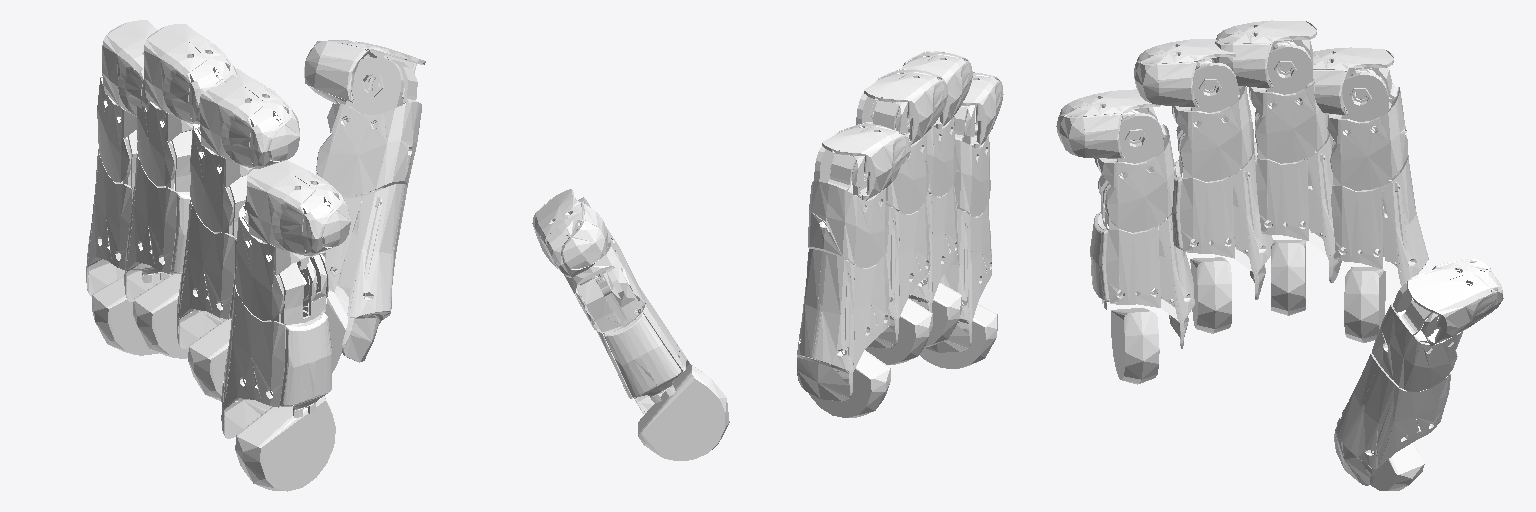
--- Facts derived from the render (not from the file) ---
3 views of the same robot in one strip: view 1: azimuth 30°, elevation 25°; view 2: azimuth 150°, elevation 25°; view 3: azimuth 270°, elevation 25° (orthographic).
Robot: hithand — 23 links, 22 joints (20 revolute, 2 fixed); root link world; default pose: every joint at zero.
Visible links, largest first — view 1: Right_Little_Phaprox, Right_Thumb_Phamed, Right_Thumb_Phaprox, Right_Little_Phadist, Right_Ring_Phadist, Right_Middle_Phaprox, Right_Little_Basecover, Right_Ring_Phaprox, Right_Middle_Phadist, Right_Index_Phaprox, Right_Little_Phamed, Right_Thumb_Phadist (+8 smaller); view 2: Right_Index_Phaprox, Right_Thumb_Phaprox, Right_Index_Phamed, Right_Thumb_Basecover, Right_Thumb_Phadist, Right_Middle_Phaprox, Right_Little_Phaprox, Right_Middle_Phamed, Right_Index_Phadist, Right_Middle_Phadist, Right_Little_Phamed, Right_Ring_Phaprox (+8 smaller); view 3: Right_Little_Phaprox, Right_Ring_Phaprox, Right_Thumb_Phaprox, Right_Index_Phaprox, Right_Index_Phamed, Right_Ring_Phamed, Right_Little_Phamed, Right_Middle_Phaprox, Right_Middle_Phamed, Right_Thumb_Phamed, Right_Thumb_Phadist, Right_Little_Phadist (+8 smaller).
Boxes of the visible links, x1,y1,x2,y2 form: Right_Little_Phaprox: (221,255,331,438); Right_Thumb_Phamed: (316,57,421,196); Right_Thumb_Phaprox: (316,172,407,362); Right_Little_Phadist: (247,160,350,255); Right_Ring_Phadist: (199,68,299,168); Right_Middle_Phaprox: (124,130,191,301); Right_Little_Basecover: (235,396,335,491); Right_Ring_Phaprox: (177,175,246,348); Right_Middle_Phadist: (144,24,236,124); Right_Index_Phaprox: (86,130,174,296); Right_Little_Phamed: (235,196,328,320); Right_Thumb_Phadist: (304,40,425,104); Right_Index_Phaprox: (797,249,890,401); Right_Thumb_Phaprox: (577,266,689,414); Right_Index_Phamed: (808,146,888,267); Right_Thumb_Basecover: (638,364,729,460); Right_Thumb_Phadist: (532,189,607,277); Right_Middle_Phaprox: (853,200,930,348); Right_Little_Phaprox: (926,203,991,352); Right_Middle_Phamed: (853,93,928,213); Right_Index_Phadist: (822,122,910,200); Right_Middle_Phadist: (864,68,947,146); Right_Little_Phamed: (954,105,990,216); Right_Ring_Phaprox: (898,183,958,312); Right_Little_Phaprox: (1090,171,1194,348); Right_Ring_Phaprox: (1171,115,1273,299); Right_Thumb_Phaprox: (1334,353,1450,485); Right_Index_Phaprox: (1331,126,1428,285); Right_Index_Phamed: (1327,67,1407,190); Right_Ring_Phamed: (1172,58,1253,181); Right_Little_Phamed: (1094,107,1175,232); Right_Middle_Phaprox: (1254,101,1341,282); Right_Middle_Phamed: (1249,40,1328,163); Right_Thumb_Phamed: (1372,272,1462,391); Right_Thumb_Phadist: (1397,259,1503,345); Right_Little_Phadist: (1056,89,1160,158).
Bounding box of the posed robot: 0.1296 × 0.1553 × 0.1457 m (x, y, z).
Meshes: 5 distinct files referenced, 20 mesh visuals loaded (4 Collada DAE); not drawn: 1 (reference not matched to a file when rendering).

The robot description file, URDF, robot "hithand":
<?xml version="1.0" encoding="utf-8"?>
<robot name="hithand">
  <material name="white">
    <color rgba="1.0 1.0 1.0 1.0"/>
  </material>

  <link name="world"/>
  <joint name="fixed" type="fixed">
    <parent link="world"/>
    <child link="base_link_hithand"/>
    <origin rpy="0 0 0" xyz="0 0 0"/>
  </joint>
  <link name="base_link_hithand">
    <inertial>
      <origin rpy="0 0 0" xyz="0.0 0.0 0.0"/>
      <mass value="1.1485"/>
      <inertia ixx="2.2458e-3" ixy="-2.7421e-4" ixz="1.6e-5" iyy="2.2203e-3" iyz="-6.37e-5" izz="1.9003e-3"/>
    </inertial>
    <visual>
      <origin rpy="-1.57 0 0" xyz="0 0 0"/>
      <geometry>
        <mesh filename="./meshes/visual/palm/hit-hand-2-palm-right.obj"/>
      </geometry>
      <material name="white"/>
    </visual>
    <collision>
      <origin rpy="-1.57 0 0" xyz="0 0 0"/>
      <geometry>
        <mesh filename="./meshes/collision/palm/hit-hand-2-palm-right.stl"/>
      </geometry>
      <disable>true</disable>
    </collision>
  </link>
  <joint name="hithand_palm_joint" type="fixed">
    <parent link="base_link_hithand"/>
    <child link="palm_link_hithand"/>
    <origin rpy="-0.15 -1.3 0" xyz="0.02 0 0.06"/>
  </joint>
  <link name="palm_link_hithand"/>
  <joint name="Right_Thumb_0" type="revolute">
    <origin rpy="0.225810 -1.083656 0.411355" xyz="0.06217593 0.044372912 0.078734808"/>
    <parent link="base_link_hithand"/>
    <child link="Right_Thumb_Basecover"/>
    <axis xyz="0 0 1"/>
    <limit effort="15" lower="-0.261799" upper="0.261799" velocity="3.14"/>
    <dynamics damping="0.5" friction="0"/>
  </joint>
  <link name="Right_Thumb_Basecover">
    <inertial>
      <origin rpy="0 0 0" xyz="0.02749 0 0"/>
      <mass value="0.0176"/>
      <inertia ixx="1.3450e-6" ixy="0.0" ixz="-1.8183e-7" iyy="1.9874e-6" iyz="0.0" izz="1.0419e-6"/>
    </inertial>
    <visual>
      <origin rpy="0 0 0" xyz="0 0 0"/>
      <geometry>
        <mesh filename="./meshes/visual/finger/hit-hand-2-finger-basecover.dae"/>
      </geometry>
      <material name="white"/>
    </visual>
    <collision>
      <origin rpy="0 0 0" xyz="0 0 0"/>
      <geometry name="hithand_Thumb_base_cover">
        <cylinder length="0.001" radius="0.001"/>
      </geometry>
    </collision>
  </link>
  <!-- +++++ Finger joint 1, Link: Phalanx proximalis ++++++ -->
  <joint name="Right_Thumb_1" type="revolute">
    <origin rpy="1.5708 0 0" xyz="0 0 0 "/>
    <parent link="Right_Thumb_Basecover"/>
    <child link="Right_Thumb_Phaprox"/>
    <axis xyz="0 0 1"/>
    <limit effort="1.15" lower="0.0" upper="1.48353" velocity="3.14"/>
    <!-- Effort limit based on max fingertip force of 10N. Finger tip is approx 11.5cm away from this joint.-->
    <dynamics damping="0.5" friction="0"/>
  </joint>
  <link name="Right_Thumb_Phaprox">
    <inertial>
      <origin rpy="0 0 0" xyz="0.03076 0.00297 0"/>
      <mass value="0.0232"/>
      <inertia ixx="2.5326e-6" ixy="-9.2551e-7" ixz="-4.0954e-8" iyy="6.9625e-6" iyz="-9.38e-9" izz="7.9108e-6"/>
    </inertial>
    <visual>
      <origin rpy="0 0 0" xyz="0 0 0"/>
      <geometry>
        <mesh filename="./meshes/visual/finger/hit-hand-2-finger-phaprox-rot.dae"/>
      </geometry>
      <material name="white"/>
    </visual>
    <collision>
      <origin rpy="0 0 0" xyz="0 0 0"/>
      <geometry>
        <mesh filename="./meshes/collision/finger/hit-hand-2-finger-phaprox.stl"/>
      </geometry>
    </collision>
  </link>
  <!-- +++++ Finger joint 2 Phalanx medialis ++++++ -->
  <joint name="Right_Thumb_2" type="revolute">
    <origin rpy="0 0 0" xyz="0.055 0 0"/>
    <parent link="Right_Thumb_Phaprox"/>
    <child link="Right_Thumb_Phamed"/>
    <axis xyz="0 0 1"/>
    <limit effort="0.6" lower="0.0" upper="1.13446" velocity="3.14"/>
    <!-- Effort limit based on max fingertip force of 10N. Finger tip is approx 6cm away from this joint.-->
    <dynamics damping="0.5" friction="0"/>
  </joint>
  <link name="Right_Thumb_Phamed">
    <inertial>
      <origin rpy="0 0 0" xyz="0.0097 -0.00036 0"/>
      <mass value="0.0158"/>
      <inertia ixx="1.1852e-6" ixy="-2.8845e-8" ixz="-6.1323e-9" iyy="2.4460e-6" iyz="2.4541e-9" izz="2.6537e-6"/>
    </inertial>
    <visual>
      <origin rpy="0 0 0" xyz="0 0 0"/>
      <geometry>
        <mesh filename="./meshes/visual/finger/hit-hand-2-finger-phamed-rot.dae"/>
      </geometry>
      <material name="white"/>
    </visual>
    <collision>
      <origin rpy="0 0 0" xyz="0 0 0"/>
      <geometry>
        <mesh filename="./meshes/collision/finger/hit-hand-2-finger-phamed.stl"/>
      </geometry>
    </collision>
  </link>
  <!-- +++++ Finger joint 3 Phalanx distalis ++++++ -->
  <joint name="Right_Thumb_3" type="revolute">
    <origin rpy="0 0 -1.570796" xyz="0.025 0 0"/>
    <parent link="Right_Thumb_Phamed"/>
    <child link="Right_Thumb_Phadist"/>
    <axis xyz="0 0 1"/>
    <limit effort="0.35" lower="0.0" upper="1.13446" velocity="3.14"/>
    <!-- Effort limit based on max fingertip force of 10N. Finger tip is approx 3.5cm away from this joint.-->
    <dynamics damping="0.5" friction="0"/>
  </joint>
  <link name="Right_Thumb_Phadist">
    <inertial>
      <origin rpy="0 0 0" xyz="0.00072 0.00717 0.0"/>
      <mass value="0.0137"/>
      <inertia ixx="1.5519e-6" ixy="-2.037e-9" ixz="0.0" iyy="8.2972e-7" iyz="3.77e-9" izz="1.5788e-6"/>
    </inertial>
    <visual>
      <origin rpy="0 0 0" xyz="0 0 0"/>
      <geometry>
        <mesh filename="./meshes/visual/finger/hit-hand-2-finger-phadist-rot.dae"/>
      </geometry>
      <material name="white"/>
    </visual>
    <collision>
      <origin rpy="0 0 0" xyz="0 0 0"/>
      <geometry>
        <mesh filename="./meshes/collision/finger/hit-hand-2-finger-phadist.stl"/>
      </geometry>
    </collision>
  </link>
  <!-- +++++ Finger base joint 0 ++++++ -->
  <joint name="Right_Index_0" type="revolute">
    <!-- joint origin in parent link frame -->
    <origin rpy="3.054326 -1.570796 0.000000" xyz="-0.002529881 0.03680013 0.107783545"/>
    <parent link="base_link_hithand"/>
    <child link="Right_Index_Basecover"/>
    <axis xyz="0 0 1"/>
    <limit effort="15" lower="-0.261799" upper="0.261799" velocity="3.14"/>
    <dynamics damping="0.5" friction="0"/>
  </joint>
  <link name="Right_Index_Basecover">
    <inertial>
      <origin rpy="0 0 0" xyz="0.02749 0 0"/>
      <mass value="0.0176"/>
      <inertia ixx="1.3450e-6" ixy="0.0" ixz="-1.8183e-7" iyy="1.9874e-6" iyz="0.0" izz="1.0419e-6"/>
    </inertial>
    <visual>
      <origin rpy="0 0 0" xyz="0 0 0"/>
      <geometry>
        <mesh filename="./meshes/visual/finger/hit-hand-2-finger-basecover.dae"/>
      </geometry>
      <material name="white"/>
    </visual>
    <collision>
      <origin rpy="0 0 0" xyz="0 0 0"/>
      <geometry name="hithand_Index_base_cover">
        <cylinder length="0.001" radius="0.001"/>
      </geometry>
    </collision>
  </link>
  <!-- +++++ Finger joint 1, Link: Phalanx proximalis ++++++ -->
  <joint name="Right_Index_1" type="revolute">
    <origin rpy="1.5708 0 0" xyz="0 0 0 "/>
    <parent link="Right_Index_Basecover"/>
    <child link="Right_Index_Phaprox"/>
    <axis xyz="0 0 1"/>
    <limit effort="1.15" lower="0.0" upper="1.48353" velocity="3.14"/>
    <!-- Effort limit based on max fingertip force of 10N. Finger tip is approx 11.5cm away from this joint.-->
    <dynamics damping="0.5" friction="0"/>
  </joint>
  <link name="Right_Index_Phaprox">
    <inertial>
      <origin rpy="0 0 0" xyz="0.03076 0.00297 0"/>
      <mass value="0.0232"/>
      <inertia ixx="2.5326e-6" ixy="-9.2551e-7" ixz="-4.0954e-8" iyy="6.9625e-6" iyz="-9.38e-9" izz="7.9108e-6"/>
    </inertial>
    <visual>
      <origin rpy="0 0 0" xyz="0 0 0"/>
      <geometry>
        <mesh filename="./meshes/visual/finger/hit-hand-2-finger-phaprox-rot.dae"/>
      </geometry>
      <material name="white"/>
    </visual>
    <collision>
      <origin rpy="0 0 0" xyz="0 0 0"/>
      <geometry>
        <mesh filename="./meshes/collision/finger/hit-hand-2-finger-phaprox.stl"/>
      </geometry>
    </collision>
  </link>
  <!-- +++++ Finger joint 2 Phalanx medialis ++++++ -->
  <joint name="Right_Index_2" type="revolute">
    <origin rpy="0 0 0" xyz="0.055 0 0"/>
    <parent link="Right_Index_Phaprox"/>
    <child link="Right_Index_Phamed"/>
    <axis xyz="0 0 1"/>
    <limit effort="0.6" lower="0.0" upper="1.13446" velocity="3.14"/>
    <!-- Effort limit based on max fingertip force of 10N. Finger tip is approx 6cm away from this joint.-->
    <dynamics damping="0.5" friction="0"/>
  </joint>
  <link name="Right_Index_Phamed">
    <inertial>
      <origin rpy="0 0 0" xyz="0.0097 -0.00036 0"/>
      <mass value="0.0158"/>
      <inertia ixx="1.1852e-6" ixy="-2.8845e-8" ixz="-6.1323e-9" iyy="2.4460e-6" iyz="2.4541e-9" izz="2.6537e-6"/>
    </inertial>
    <visual>
      <origin rpy="0 0 0" xyz="0 0 0"/>
      <geometry>
        <mesh filename="./meshes/visual/finger/hit-hand-2-finger-phamed-rot.dae"/>
      </geometry>
      <material name="white"/>
    </visual>
    <collision>
      <origin rpy="0 0 0" xyz="0 0 0"/>
      <geometry>
        <mesh filename="./meshes/collision/finger/hit-hand-2-finger-phamed.stl"/>
      </geometry>
    </collision>
  </link>
  <!-- +++++ Finger joint 3 Phalanx distalis ++++++ -->
  <joint name="Right_Index_3" type="revolute">
    <origin rpy="0 0 -1.570796" xyz="0.025 0 0"/>
    <parent link="Right_Index_Phamed"/>
    <child link="Right_Index_Phadist"/>
    <axis xyz="0 0 1"/>
    <limit effort="0.35" lower="0.0" upper="1.13446" velocity="3.14"/>
    <!-- Effort limit based on max fingertip force of 10N. Finger tip is approx 3.5cm away from this joint.-->
    <dynamics damping="0.5" friction="0"/>
  </joint>
  <link name="Right_Index_Phadist">
    <inertial>
      <origin rpy="0 0 0" xyz="0.00072 0.00717 0.0"/>
      <mass value="0.0137"/>
      <inertia ixx="1.5519e-6" ixy="-2.037e-9" ixz="0.0" iyy="8.2972e-7" iyz="3.77e-9" izz="1.5788e-6"/>
    </inertial>
    <visual>
      <origin rpy="0 0 0" xyz="0 0 0"/>
      <geometry>
        <mesh filename="./meshes/visual/finger/hit-hand-2-finger-phadist-rot.dae"/>
      </geometry>
      <material name="white"/>
    </visual>
    <collision>
      <origin rpy="0 0 0" xyz="0 0 0"/>
      <geometry>
        <mesh filename="./meshes/collision/finger/hit-hand-2-finger-phadist.stl"/>
      </geometry>
    </collision>
  </link>
  <!-- +++++ Finger base joint 0 ++++++ -->
  <joint name="Right_Middle_0" type="revolute">
    <!-- joint origin in parent link frame -->
    <origin rpy="-3.141593 -1.570796 0.000000" xyz="-0.0037 0.01  0.117783545"/>
    <parent link="base_link_hithand"/>
    <child link="Right_Middle_Basecover"/>
    <axis xyz="0 0 1"/>
    <limit effort="15" lower="-0.261799" upper="0.261799" velocity="3.14"/>
    <dynamics damping="0.5" friction="0"/>
  </joint>
  <link name="Right_Middle_Basecover">
    <inertial>
      <origin rpy="0 0 0" xyz="0.02749 0 0"/>
      <mass value="0.0176"/>
      <inertia ixx="1.3450e-6" ixy="0.0" ixz="-1.8183e-7" iyy="1.9874e-6" iyz="0.0" izz="1.0419e-6"/>
    </inertial>
    <visual>
      <origin rpy="0 0 0" xyz="0 0 0"/>
      <geometry>
        <mesh filename="./meshes/visual/finger/hit-hand-2-finger-basecover.dae"/>
      </geometry>
      <material name="white"/>
    </visual>
    <collision>
      <origin rpy="0 0 0" xyz="0 0 0"/>
      <geometry name="hithand_Middle_base_cover">
        <cylinder length="0.001" radius="0.001"/>
      </geometry>
    </collision>
  </link>
  <!-- +++++ Finger joint 1, Link: Phalanx proximalis ++++++ -->
  <joint name="Right_Middle_1" type="revolute">
    <origin rpy="1.5708 0 0" xyz="0 0 0 "/>
    <parent link="Right_Middle_Basecover"/>
    <child link="Right_Middle_Phaprox"/>
    <axis xyz="0 0 1"/>
    <limit effort="1.15" lower="0.0" upper="1.48353" velocity="3.14"/>
    <!-- Effort limit based on max fingertip force of 10N. Finger tip is approx 11.5cm away from this joint.-->
    <dynamics damping="0.5" friction="0"/>
  </joint>
  <link name="Right_Middle_Phaprox">
    <inertial>
      <origin rpy="0 0 0" xyz="0.03076 0.00297 0"/>
      <mass value="0.0232"/>
      <inertia ixx="2.5326e-6" ixy="-9.2551e-7" ixz="-4.0954e-8" iyy="6.9625e-6" iyz="-9.38e-9" izz="7.9108e-6"/>
    </inertial>
    <visual>
      <origin rpy="0 0 0" xyz="0 0 0"/>
      <geometry>
        <mesh filename="./meshes/visual/finger/hit-hand-2-finger-phaprox-rot.dae"/>
      </geometry>
      <material name="white"/>
    </visual>
    <collision>
      <origin rpy="0 0 0" xyz="0 0 0"/>
      <geometry>
        <mesh filename="./meshes/collision/finger/hit-hand-2-finger-phaprox.stl"/>
      </geometry>
    </collision>
  </link>
  <!-- +++++ Finger joint 2 Phalanx medialis ++++++ -->
  <joint name="Right_Middle_2" type="revolute">
    <origin rpy="0 0 0" xyz="0.055 0 0"/>
    <parent link="Right_Middle_Phaprox"/>
    <child link="Right_Middle_Phamed"/>
    <axis xyz="0 0 1"/>
    <limit effort="0.6" lower="0.0" upper="1.13446" velocity="3.14"/>
    <!-- Effort limit based on max fingertip force of 10N. Finger tip is approx 6cm away from this joint.-->
    <dynamics damping="0.5" friction="0"/>
  </joint>
  <link name="Right_Middle_Phamed">
    <inertial>
      <origin rpy="0 0 0" xyz="0.0097 -0.00036 0"/>
      <mass value="0.0158"/>
      <inertia ixx="1.1852e-6" ixy="-2.8845e-8" ixz="-6.1323e-9" iyy="2.4460e-6" iyz="2.4541e-9" izz="2.6537e-6"/>
    </inertial>
    <visual>
      <origin rpy="0 0 0" xyz="0 0 0"/>
      <geometry>
        <mesh filename="./meshes/visual/finger/hit-hand-2-finger-phamed-rot.dae"/>
      </geometry>
      <material name="white"/>
    </visual>
    <collision>
      <origin rpy="0 0 0" xyz="0 0 0"/>
      <geometry>
        <mesh filename="./meshes/collision/finger/hit-hand-2-finger-phamed.stl"/>
      </geometry>
    </collision>
  </link>
  <!-- +++++ Finger joint 3 Phalanx distalis ++++++ -->
  <joint name="Right_Middle_3" type="revolute">
    <origin rpy="0 0 -1.570796" xyz="0.025 0 0"/>
    <parent link="Right_Middle_Phamed"/>
    <child link="Right_Middle_Phadist"/>
    <axis xyz="0 0 1"/>
    <limit effort="0.35" lower="0.0" upper="1.13446" velocity="3.14"/>
    <!-- Effort limit based on max fingertip force of 10N. Finger tip is approx 3.5cm away from this joint.-->
    <dynamics damping="0.5" friction="0"/>
  </joint>
  <link name="Right_Middle_Phadist">
    <inertial>
      <origin rpy="0 0 0" xyz="0.00072 0.00717 0.0"/>
      <mass value="0.0137"/>
      <inertia ixx="1.5519e-6" ixy="-2.037e-9" ixz="0.0" iyy="8.2972e-7" iyz="3.77e-9" izz="1.5788e-6"/>
    </inertial>
    <visual>
      <origin rpy="0 0 0" xyz="0 0 0"/>
      <geometry>
        <mesh filename="./meshes/visual/finger/hit-hand-2-finger-phadist-rot.dae"/>
      </geometry>
      <material name="white"/>
    </visual>
    <collision>
      <origin rpy="0 0 0" xyz="0 0 0"/>
      <geometry>
        <mesh filename="./meshes/collision/finger/hit-hand-2-finger-phadist.stl"/>
      </geometry>
    </collision>
  </link>
  <!-- +++++ Finger base joint 0 ++++++ -->
  <joint name="Right_Ring_0" type="revolute">
    <!-- joint origin in parent link frame -->
    <origin rpy="-3.054326 -1.570796 0.000000" xyz="0 -0.01680013 0.11258354"/>
    <parent link="base_link_hithand"/>
    <child link="Right_Ring_Basecover"/>
    <axis xyz="0 0 1"/>
    <limit effort="15" lower="-0.261799" upper="0.261799" velocity="3.14"/>
    <dynamics damping="0.5" friction="0"/>
  </joint>
  <link name="Right_Ring_Basecover">
    <inertial>
      <origin rpy="0 0 0" xyz="0.02749 0 0"/>
      <mass value="0.0176"/>
      <inertia ixx="1.3450e-6" ixy="0.0" ixz="-1.8183e-7" iyy="1.9874e-6" iyz="0.0" izz="1.0419e-6"/>
    </inertial>
    <visual>
      <origin rpy="0 0 0" xyz="0 0 0"/>
      <geometry>
        <mesh filename="./meshes/visual/finger/hit-hand-2-finger-basecover.dae"/>
      </geometry>
      <material name="white"/>
    </visual>
    <collision>
      <origin rpy="0 0 0" xyz="0 0 0"/>
      <geometry name="hithand_Ring_base_cover">
        <cylinder length="0.001" radius="0.001"/>
      </geometry>
    </collision>
  </link>
  <!-- +++++ Finger joint 1, Link: Phalanx proximalis ++++++ -->
  <joint name="Right_Ring_1" type="revolute">
    <origin rpy="1.5708 0 0" xyz="0 0 0 "/>
    <parent link="Right_Ring_Basecover"/>
    <child link="Right_Ring_Phaprox"/>
    <axis xyz="0 0 1"/>
    <limit effort="1.15" lower="0.0" upper="1.48353" velocity="3.14"/>
    <!-- Effort limit based on max fingertip force of 10N. Finger tip is approx 11.5cm away from this joint.-->
    <dynamics damping="0.5" friction="0"/>
  </joint>
  <link name="Right_Ring_Phaprox">
    <inertial>
      <origin rpy="0 0 0" xyz="0.03076 0.00297 0"/>
      <mass value="0.0232"/>
      <inertia ixx="2.5326e-6" ixy="-9.2551e-7" ixz="-4.0954e-8" iyy="6.9625e-6" iyz="-9.38e-9" izz="7.9108e-6"/>
    </inertial>
    <visual>
      <origin rpy="0 0 0" xyz="0 0 0"/>
      <geometry>
        <mesh filename="./meshes/visual/finger/hit-hand-2-finger-phaprox-rot.dae"/>
      </geometry>
      <material name="white"/>
    </visual>
    <collision>
      <origin rpy="0 0 0" xyz="0 0 0"/>
      <geometry>
        <mesh filename="./meshes/collision/finger/hit-hand-2-finger-phaprox.stl"/>
      </geometry>
    </collision>
  </link>
  <!-- +++++ Finger joint 2 Phalanx medialis ++++++ -->
  <joint name="Right_Ring_2" type="revolute">
    <origin rpy="0 0 0" xyz="0.055 0 0"/>
    <parent link="Right_Ring_Phaprox"/>
    <child link="Right_Ring_Phamed"/>
    <axis xyz="0 0 1"/>
    <limit effort="0.6" lower="0.0" upper="1.13446" velocity="3.14"/>
    <!-- Effort limit based on max fingertip force of 10N. Finger tip is approx 6cm away from this joint.-->
    <dynamics damping="0.5" friction="0"/>
  </joint>
  <link name="Right_Ring_Phamed">
    <inertial>
      <origin rpy="0 0 0" xyz="0.0097 -0.00036 0"/>
      <mass value="0.0158"/>
      <inertia ixx="1.1852e-6" ixy="-2.8845e-8" ixz="-6.1323e-9" iyy="2.4460e-6" iyz="2.4541e-9" izz="2.6537e-6"/>
    </inertial>
    <visual>
      <origin rpy="0 0 0" xyz="0 0 0"/>
      <geometry>
        <mesh filename="./meshes/visual/finger/hit-hand-2-finger-phamed-rot.dae"/>
      </geometry>
      <material name="white"/>
    </visual>
    <collision>
      <origin rpy="0 0 0" xyz="0 0 0"/>
      <geometry>
        <mesh filename="./meshes/collision/finger/hit-hand-2-finger-phamed.stl"/>
      </geometry>
    </collision>
  </link>
  <!-- +++++ Finger joint 3 Phalanx distalis ++++++ -->
  <joint name="Right_Ring_3" type="revolute">
    <origin rpy="0 0 -1.570796" xyz="0.025 0 0"/>
    <parent link="Right_Ring_Phamed"/>
    <child link="Right_Ring_Phadist"/>
    <axis xyz="0 0 1"/>
    <limit effort="0.35" lower="0.0" upper="1.13446" velocity="3.14"/>
    <!-- Effort limit based on max fingertip force of 10N. Finger tip is approx 3.5cm away from this joint.-->
    <dynamics damping="0.5" friction="0"/>
  </joint>
  <link name="Right_Ring_Phadist">
    <inertial>
      <origin rpy="0 0 0" xyz="0.00072 0.00717 0.0"/>
      <mass value="0.0137"/>
      <inertia ixx="1.5519e-6" ixy="-2.037e-9" ixz="0.0" iyy="8.2972e-7" iyz="3.77e-9" izz="1.5788e-6"/>
    </inertial>
    <visual>
      <origin rpy="0 0 0" xyz="0 0 0"/>
      <geometry>
        <mesh filename="./meshes/visual/finger/hit-hand-2-finger-phadist-rot.dae"/>
      </geometry>
      <material name="white"/>
    </visual>
    <collision>
      <origin rpy="0 0 0" xyz="0 0 0"/>
      <geometry>
        <mesh filename="./meshes/collision/finger/hit-hand-2-finger-phadist.stl"/>
      </geometry>
    </collision>
  </link>
  <!-- +++++ Finger base joint 0 ++++++ -->
  <joint name="Right_Little_0" type="revolute">
    <!-- joint origin in parent link frame -->
    <origin rpy="-2.967060 -1.570796 0.000000" xyz="0.000971571 -0.0433963 0.093583545"/>
    <parent link="base_link_hithand"/>
    <child link="Right_Little_Basecover"/>
    <axis xyz="0 0 1"/>
    <limit effort="15" lower="-0.261799" upper="0.261799" velocity="3.14"/>
    <dynamics damping="0.5" friction="0"/>
  </joint>
  <link name="Right_Little_Basecover">
    <inertial>
      <origin rpy="0 0 0" xyz="0.02749 0 0"/>
      <mass value="0.0176"/>
      <inertia ixx="1.3450e-6" ixy="0.0" ixz="-1.8183e-7" iyy="1.9874e-6" iyz="0.0" izz="1.0419e-6"/>
    </inertial>
    <visual>
      <origin rpy="0 0 0" xyz="0 0 0"/>
      <geometry>
        <mesh filename="./meshes/visual/finger/hit-hand-2-finger-basecover.dae"/>
      </geometry>
      <material name="white"/>
    </visual>
    <collision>
      <origin rpy="0 0 0" xyz="0 0 0"/>
      <geometry name="hithand_Little_base_cover">
        <cylinder length="0.001" radius="0.001"/>
      </geometry>
    </collision>
  </link>
  <!-- +++++ Finger joint 1, Link: Phalanx proximalis ++++++ -->
  <joint name="Right_Little_1" type="revolute">
    <origin rpy="1.5708 0 0" xyz="0 0 0 "/>
    <parent link="Right_Little_Basecover"/>
    <child link="Right_Little_Phaprox"/>
    <axis xyz="0 0 1"/>
    <limit effort="1.15" lower="0.0" upper="1.48353" velocity="3.14"/>
    <!-- Effort limit based on max fingertip force of 10N. Finger tip is approx 11.5cm away from this joint.-->
    <dynamics damping="0.5" friction="0"/>
  </joint>
  <link name="Right_Little_Phaprox">
    <inertial>
      <origin rpy="0 0 0" xyz="0.03076 0.00297 0"/>
      <mass value="0.0232"/>
      <inertia ixx="2.5326e-6" ixy="-9.2551e-7" ixz="-4.0954e-8" iyy="6.9625e-6" iyz="-9.38e-9" izz="7.9108e-6"/>
    </inertial>
    <visual>
      <origin rpy="0 0 0" xyz="0 0 0"/>
      <geometry>
        <mesh filename="./meshes/visual/finger/hit-hand-2-finger-phaprox-rot.dae"/>
      </geometry>
      <material name="white"/>
    </visual>
    <collision>
      <origin rpy="0 0 0" xyz="0 0 0"/>
      <geometry>
        <mesh filename="./meshes/collision/finger/hit-hand-2-finger-phaprox.stl"/>
      </geometry>
    </collision>
  </link>
  <!-- +++++ Finger joint 2 Phalanx medialis ++++++ -->
  <joint name="Right_Little_2" type="revolute">
    <origin rpy="0 0 0" xyz="0.055 0 0"/>
    <parent link="Right_Little_Phaprox"/>
    <child link="Right_Little_Phamed"/>
    <axis xyz="0 0 1"/>
    <limit effort="0.6" lower="0.0" upper="1.13446" velocity="3.14"/>
    <!-- Effort limit based on max fingertip force of 10N. Finger tip is approx 6cm away from this joint.-->
    <dynamics damping="0.5" friction="0"/>
  </joint>
  <link name="Right_Little_Phamed">
    <inertial>
      <origin rpy="0 0 0" xyz="0.0097 -0.00036 0"/>
      <mass value="0.0158"/>
      <inertia ixx="1.1852e-6" ixy="-2.8845e-8" ixz="-6.1323e-9" iyy="2.4460e-6" iyz="2.4541e-9" izz="2.6537e-6"/>
    </inertial>
    <visual>
      <origin rpy="0 0 0" xyz="0 0 0"/>
      <geometry>
        <mesh filename="./meshes/visual/finger/hit-hand-2-finger-phamed-rot.dae"/>
      </geometry>
      <material name="white"/>
    </visual>
    <collision>
      <origin rpy="0 0 0" xyz="0 0 0"/>
      <geometry>
        <mesh filename="./meshes/collision/finger/hit-hand-2-finger-phamed.stl"/>
      </geometry>
    </collision>
  </link>
  <!-- +++++ Finger joint 3 Phalanx distalis ++++++ -->
  <joint name="Right_Little_3" type="revolute">
    <origin rpy="0 0 -1.570796" xyz="0.025 0 0"/>
    <parent link="Right_Little_Phamed"/>
    <child link="Right_Little_Phadist"/>
    <axis xyz="0 0 1"/>
    <limit effort="0.35" lower="0.0" upper="1.13446" velocity="3.14"/>
    <!-- Effort limit based on max fingertip force of 10N. Finger tip is approx 3.5cm away from this joint.-->
    <dynamics damping="0.5" friction="0"/>
  </joint>
  <link name="Right_Little_Phadist">
    <inertial>
      <origin rpy="0 0 0" xyz="0.00072 0.00717 0.0"/>
      <mass value="0.0137"/>
      <inertia ixx="1.5519e-6" ixy="-2.037e-9" ixz="0.0" iyy="8.2972e-7" iyz="3.77e-9" izz="1.5788e-6"/>
    </inertial>
    <visual>
      <origin rpy="0 0 0" xyz="0 0 0"/>
      <geometry>
        <mesh filename="./meshes/visual/finger/hit-hand-2-finger-phadist-rot.dae"/>
      </geometry>
      <material name="white"/>
    </visual>
    <collision>
      <origin rpy="0 0 0" xyz="0 0 0"/>
      <geometry>
        <mesh filename="./meshes/collision/finger/hit-hand-2-finger-phadist.stl"/>
      </geometry>
    </collision>
  </link>
</robot>
